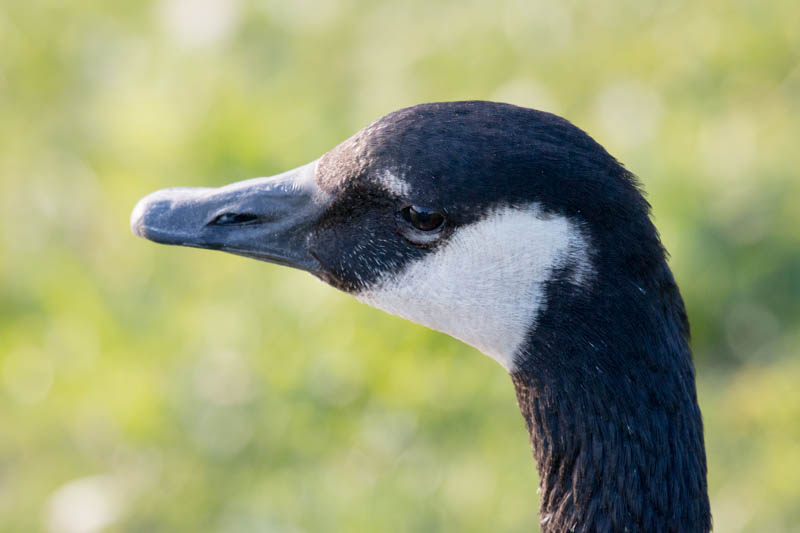goose-head: (132, 99, 691, 371)
